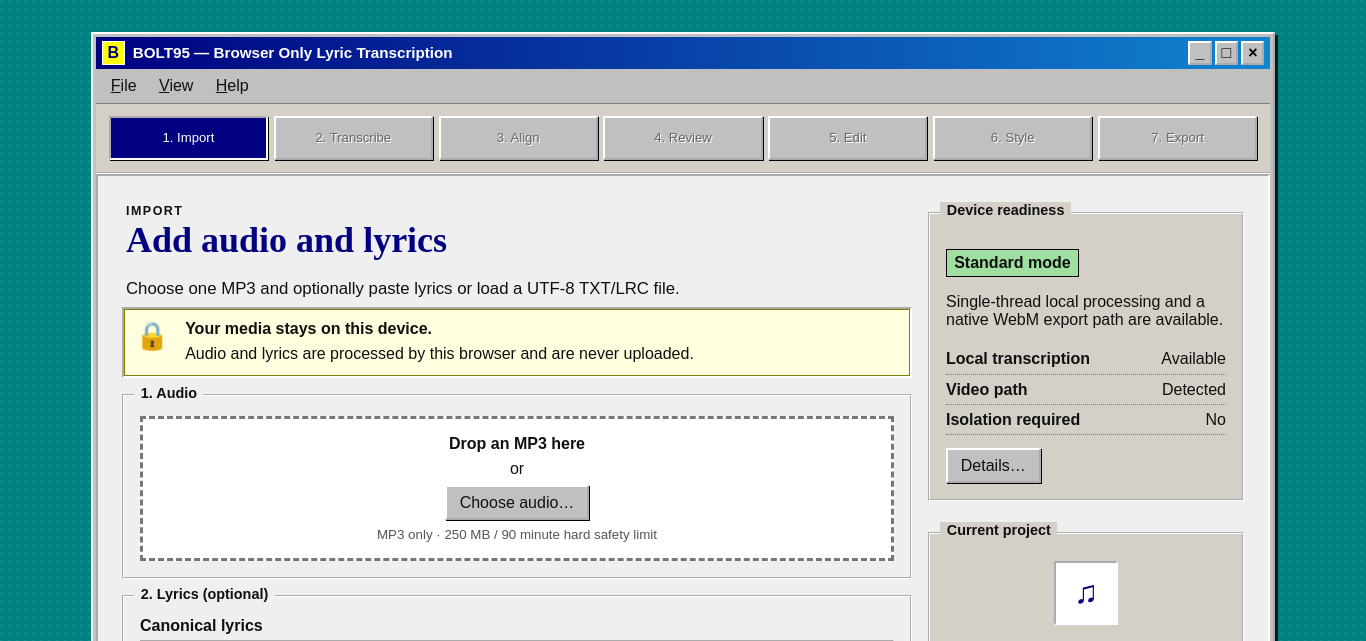
Test: App shell › opens and closes capability details with semantic controls
expect the text "Standard mode" is shown: met, box [946,249,1079,277]
Click the button "Details…". click: click(993, 466)
box: [946,448,1040,483]
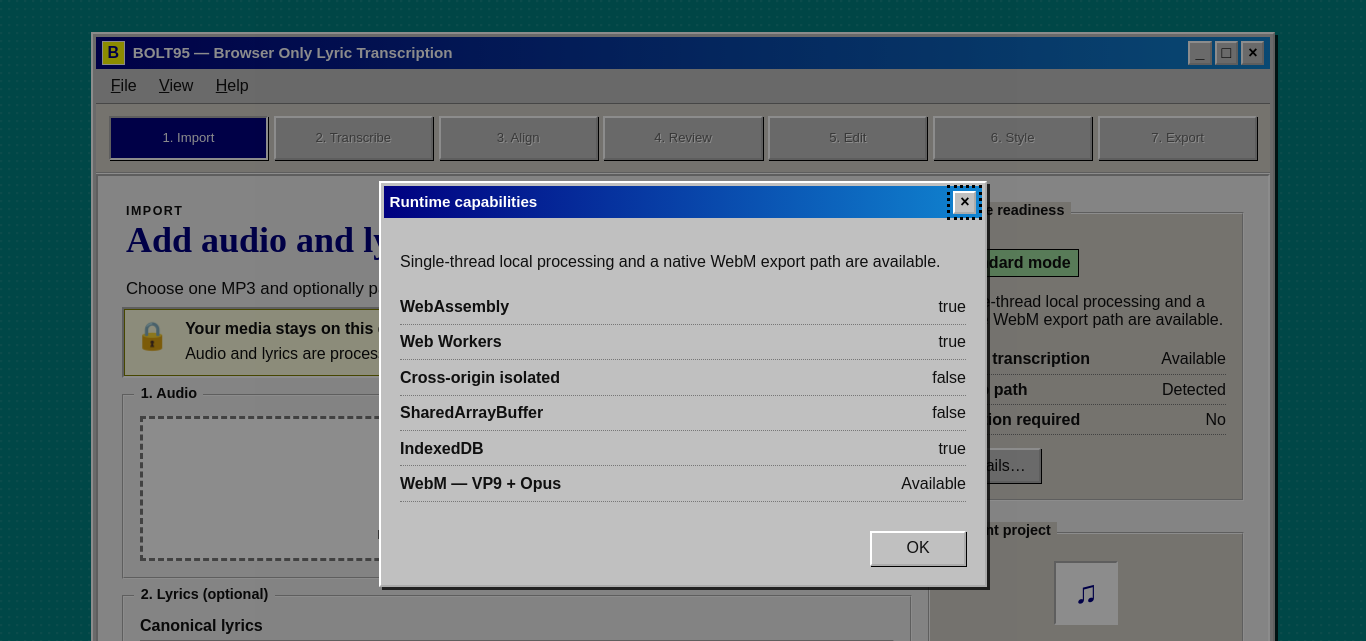
expect the dialog "Runtime capabilities" is shown: met, box [379,181,987,587]
Click the button "OK". click: click(918, 548)
box: [870,530,966,566]
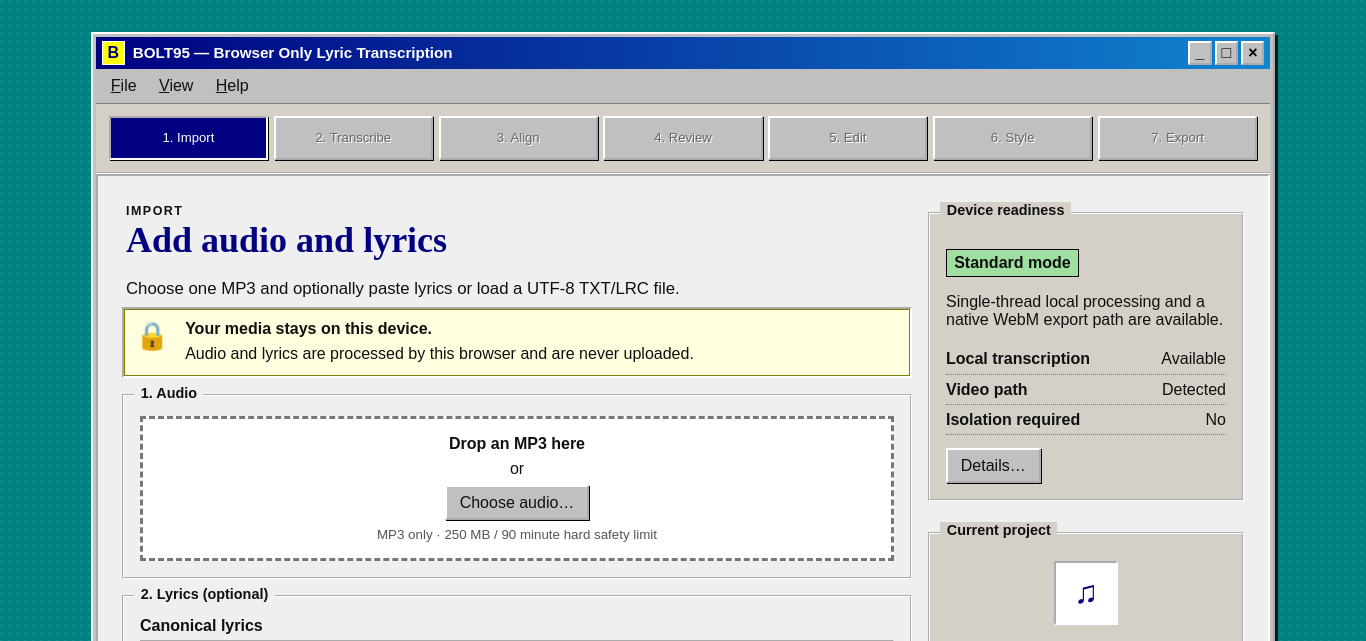
expect the dialog is gone: met
